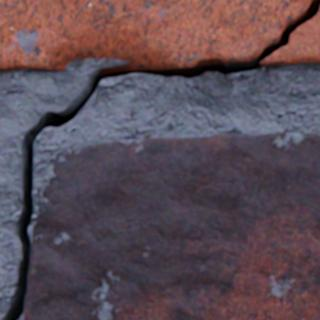brick: (25, 132, 319, 319)
broken_brick: (0, 0, 316, 71), (260, 8, 319, 65)
crack: (1, 0, 319, 319)
